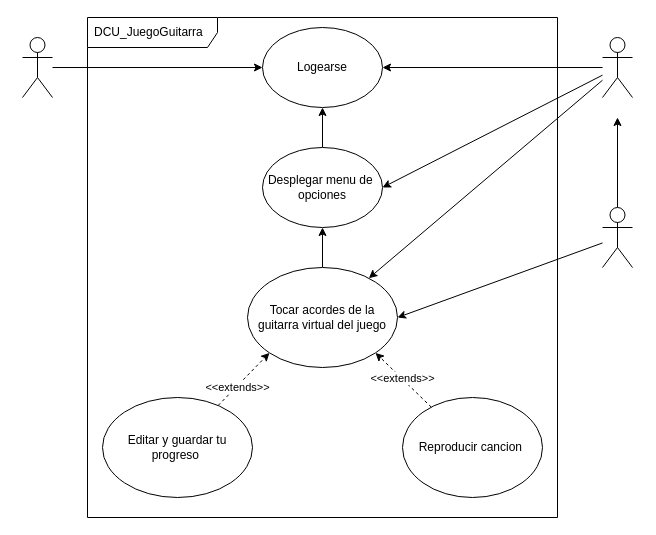
The diagram is 656 pixels wide and 535 high, and some of its shapes have lost their labels. Each missing label, with the centre of its shape:
App: point (617, 67)
Palanca: point (617, 237)
Usuario: point (37, 67)
